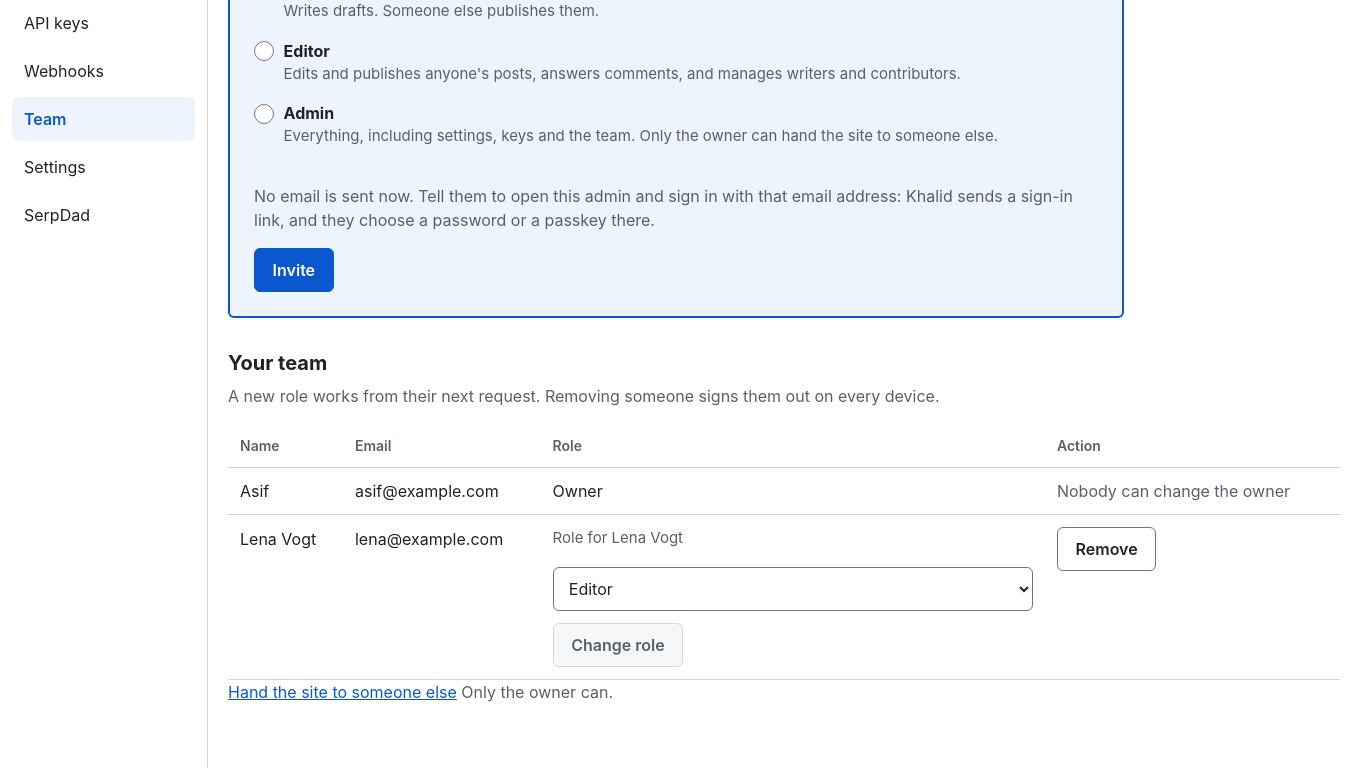
Test case: the Team screen › shows the API's words when the role may not make the change
(page scrolled)
Select "Admin" in the dropdown labelled "Role for Lena Vogt". click: (793, 589)
box: [553,567,1033,611]
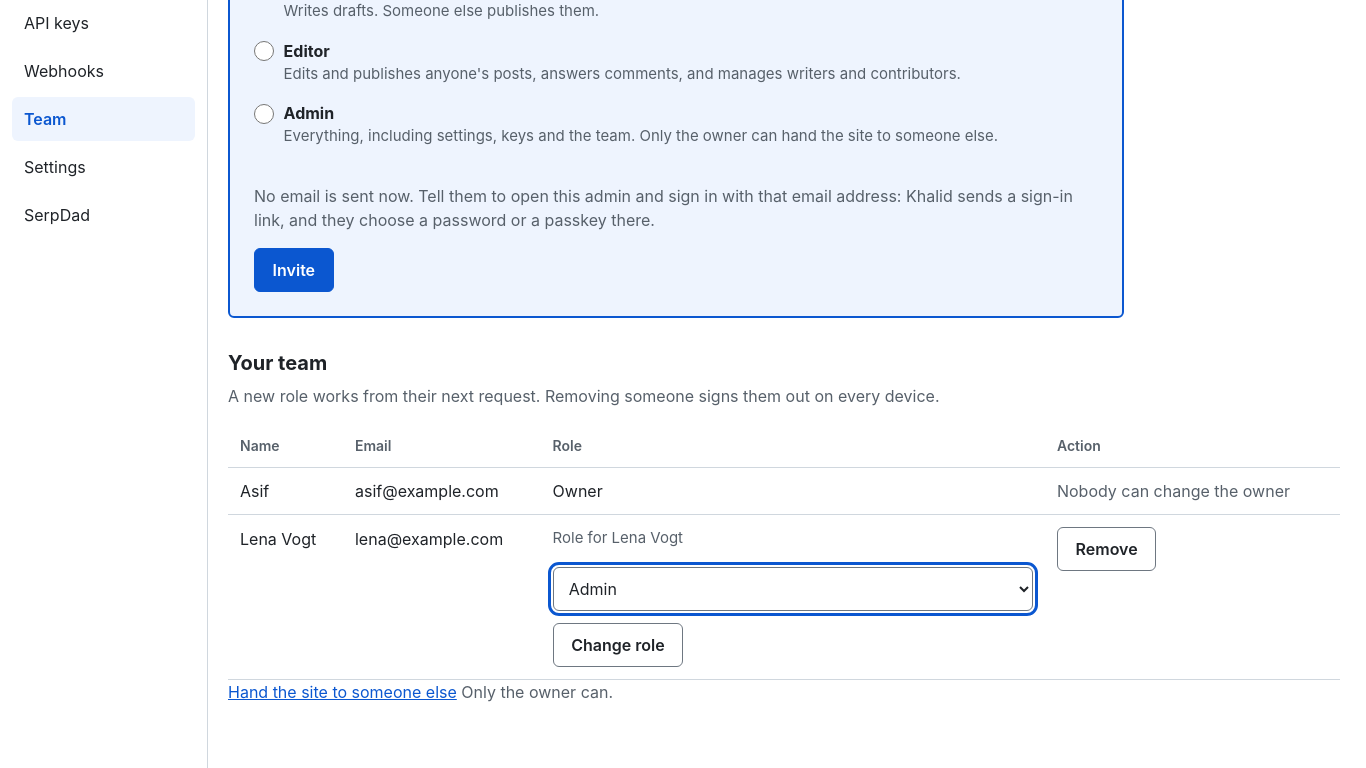
Click the button "Change role". click: (618, 645)
box: [553,623,683,667]
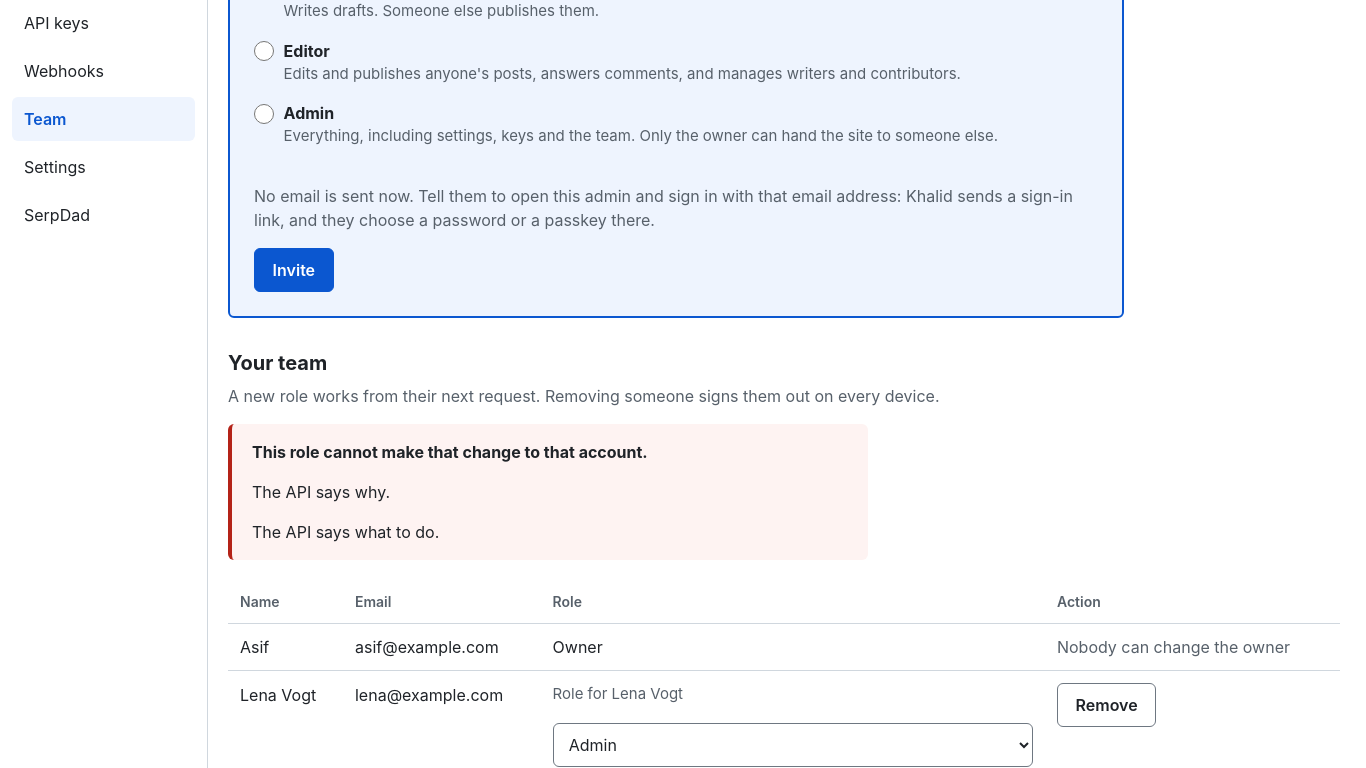
expect the message shows "This role cannot make that change to that account.": met, box [252,442,648,462]
